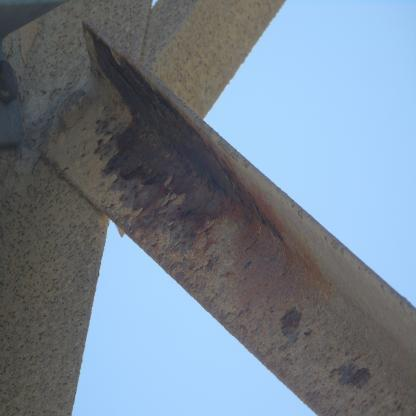rust: (85, 28, 297, 259), (175, 230, 413, 415), (10, 2, 87, 163)
